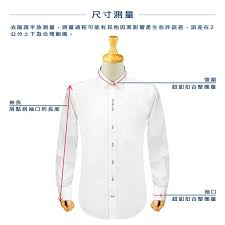C_shirt: (56, 68, 169, 217)
